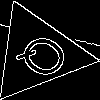Q: (13, 28, 81, 89)
